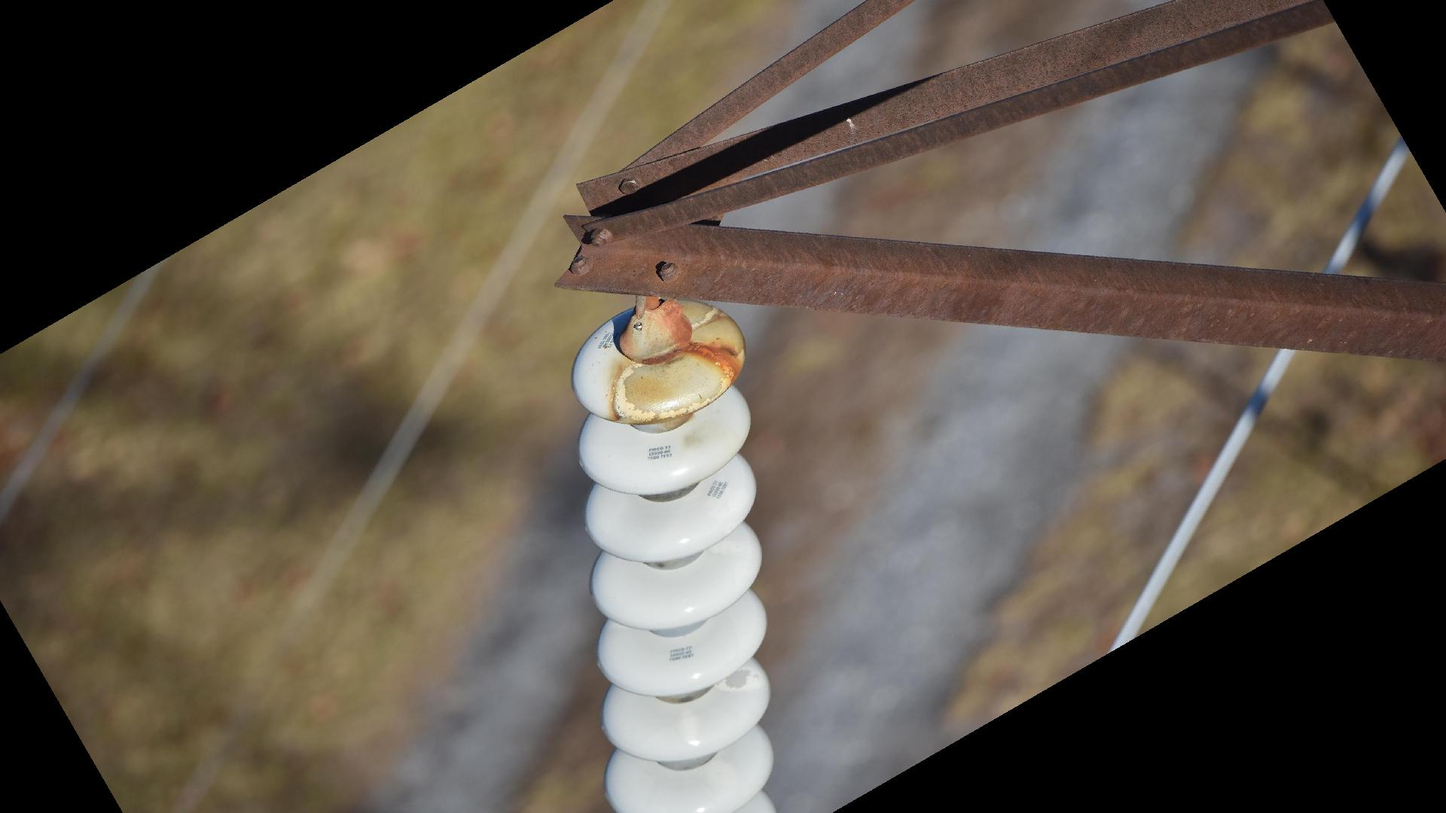insulator: (562, 291, 782, 813)
insulator_flashover: (614, 314, 743, 425)
